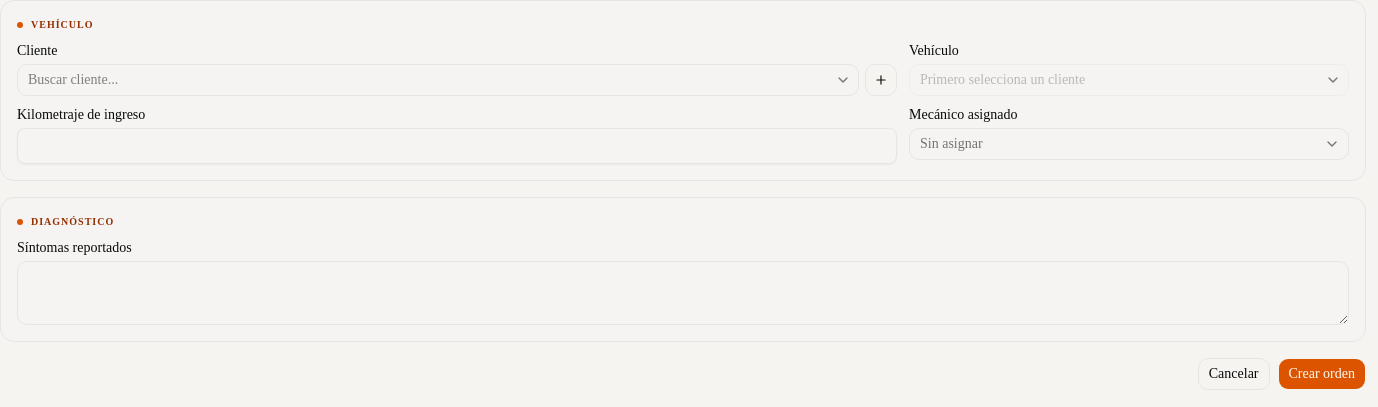
Test: NuevaOrdenDesdeCeroForm › narrows the vehiculo options to the selected cliente's own vehiculos
Click the dropdown labelled "Cliente" at (438, 80), box [17, 64, 859, 96]
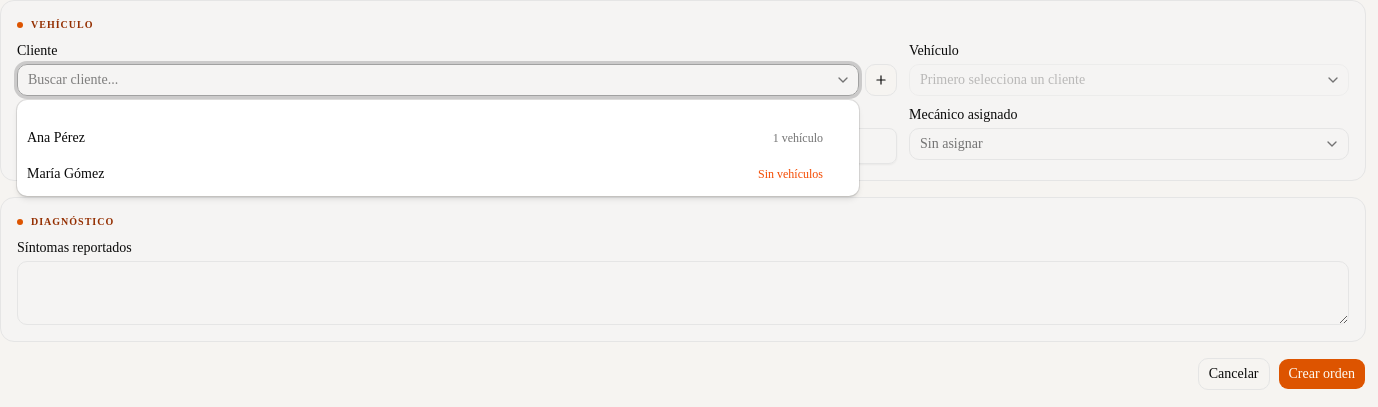
Click the option "Ana Pérez 1 vehículo" at (56, 138), box [27, 130, 823, 145]
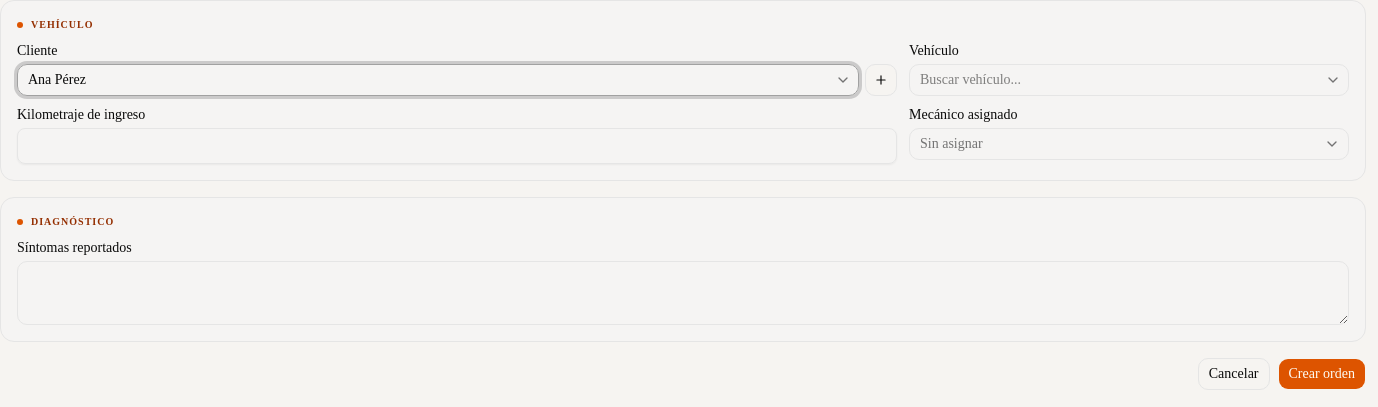
Check: the dropdown labelled "Vehículo" is enabled
Click the dropdown labelled "Vehículo" at (1129, 80), box [909, 64, 1349, 96]
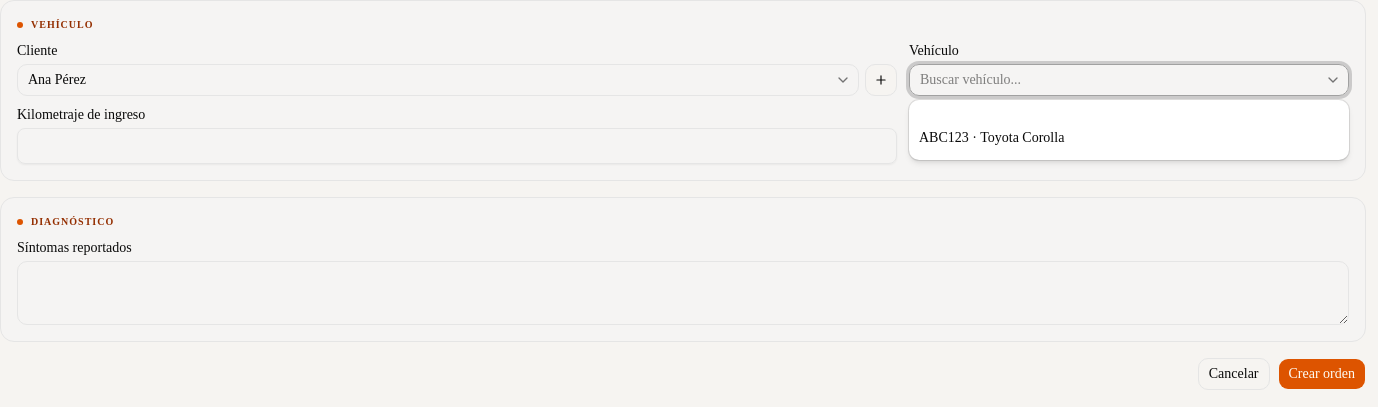
Check: the option "ABC123 · Toyota Corolla" is shown, box [919, 130, 1064, 145]
